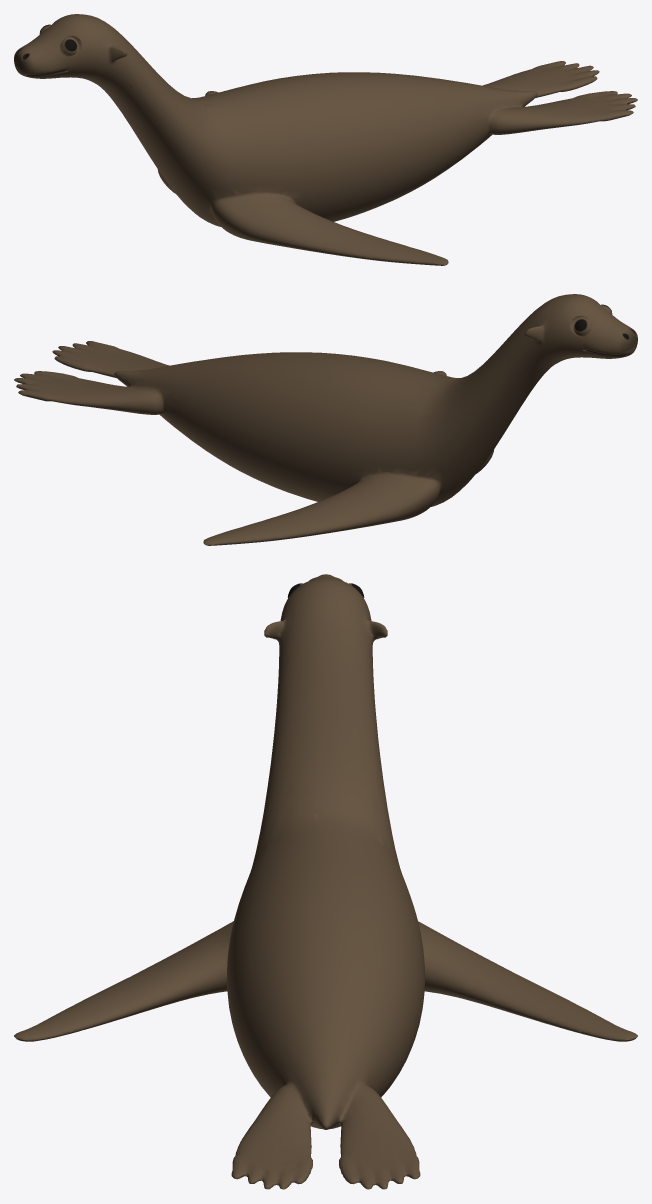
The picture shows the model from 3 angles, top to bottom: view 1: azimuth 30°, elevation 25°; view 2: azimuth 150°, elevation 25°; view 3: azimuth 270°, elevation 25°; orthographic projection. The views are drawn at different scales.
Parts seen in each view (by area): view 1: NEW433_Continuous_Skin; view 2: NEW433_Continuous_Skin; view 3: NEW433_Continuous_Skin.
Boxes of the visible parts, <box> form: NEW433_Continuous_Skin: <box>14,14,637,265</box>; NEW433_Continuous_Skin: <box>14,294,637,545</box>; NEW433_Continuous_Skin: <box>14,574,637,1189</box>.
Bounding box in the file's own units: 1.58 × 0.6535 × 1.09.
